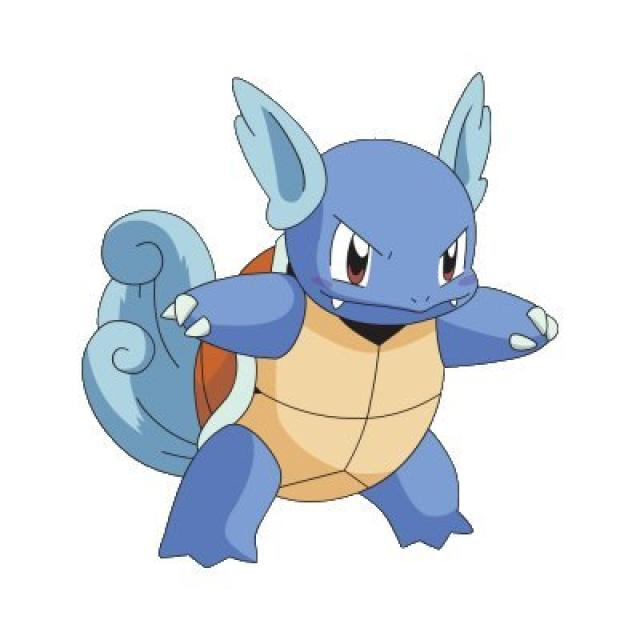Wartortle: (188, 63, 492, 544)
